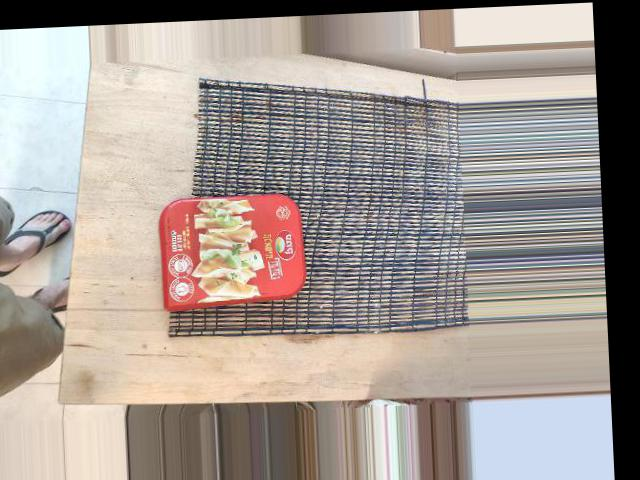cheese: (206, 85, 343, 274)
